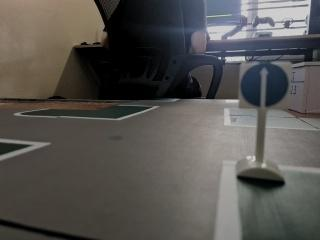straight: (238, 59, 293, 111)
